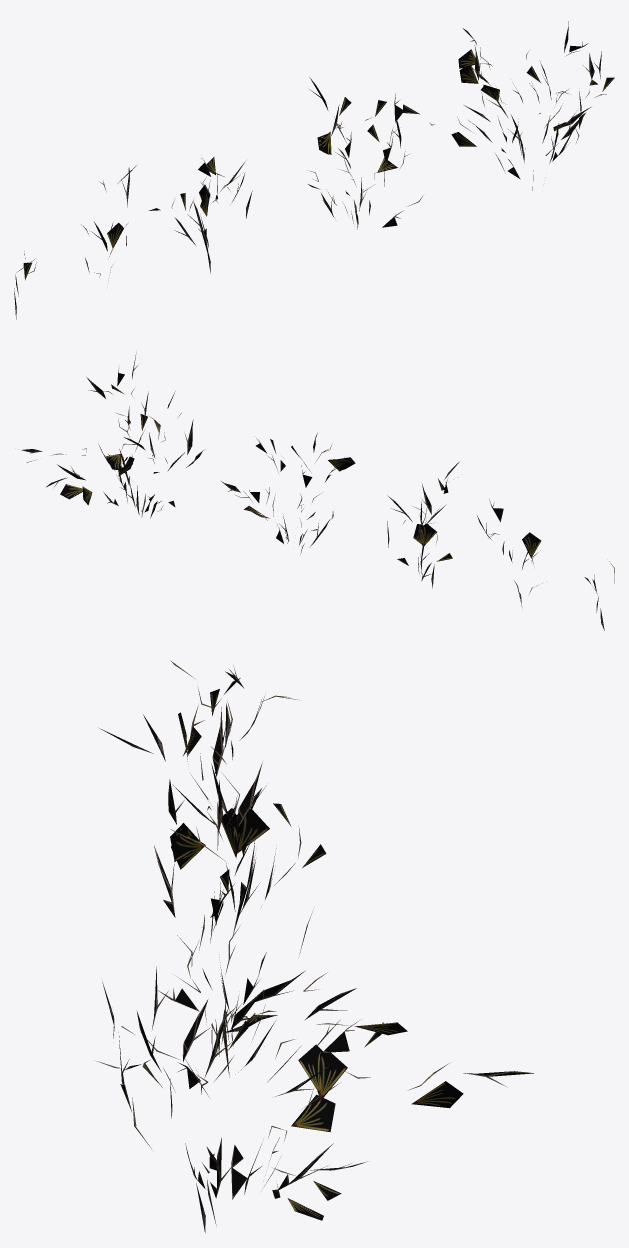
Rendered from wild_rooibos_bush.glb.
3 views of the same model, one above another, from view 1: azimuth 30°, elevation 25°; view 2: azimuth 150°, elevation 25°; view 3: azimuth 270°, elevation 25° (orthographic). The views are drawn at different scales.
Visible parts, largest first — view 1: wild_rooibos_bush_a; view 2: wild_rooibos_bush_a; view 3: wild_rooibos_bush_a.
Boxes of the visible parts, left/top/right/bottom form: wild_rooibos_bush_a: left=14, top=21, right=614, bottom=319; wild_rooibos_bush_a: left=21, top=353, right=614, bottom=630; wild_rooibos_bush_a: left=96, top=660, right=533, bottom=1232.
Bounding box in the file's own units: 2.16 × 0.5275 × 0.7432.
2 materials, 2 textured.
